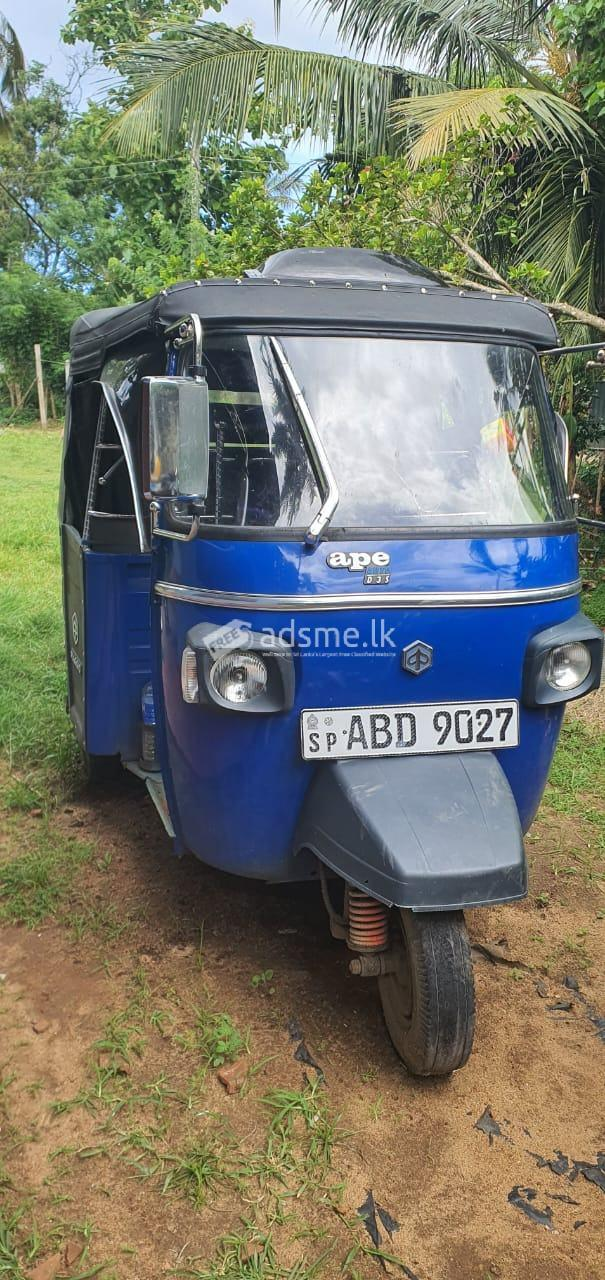threewheel: (58, 249, 605, 1079)
